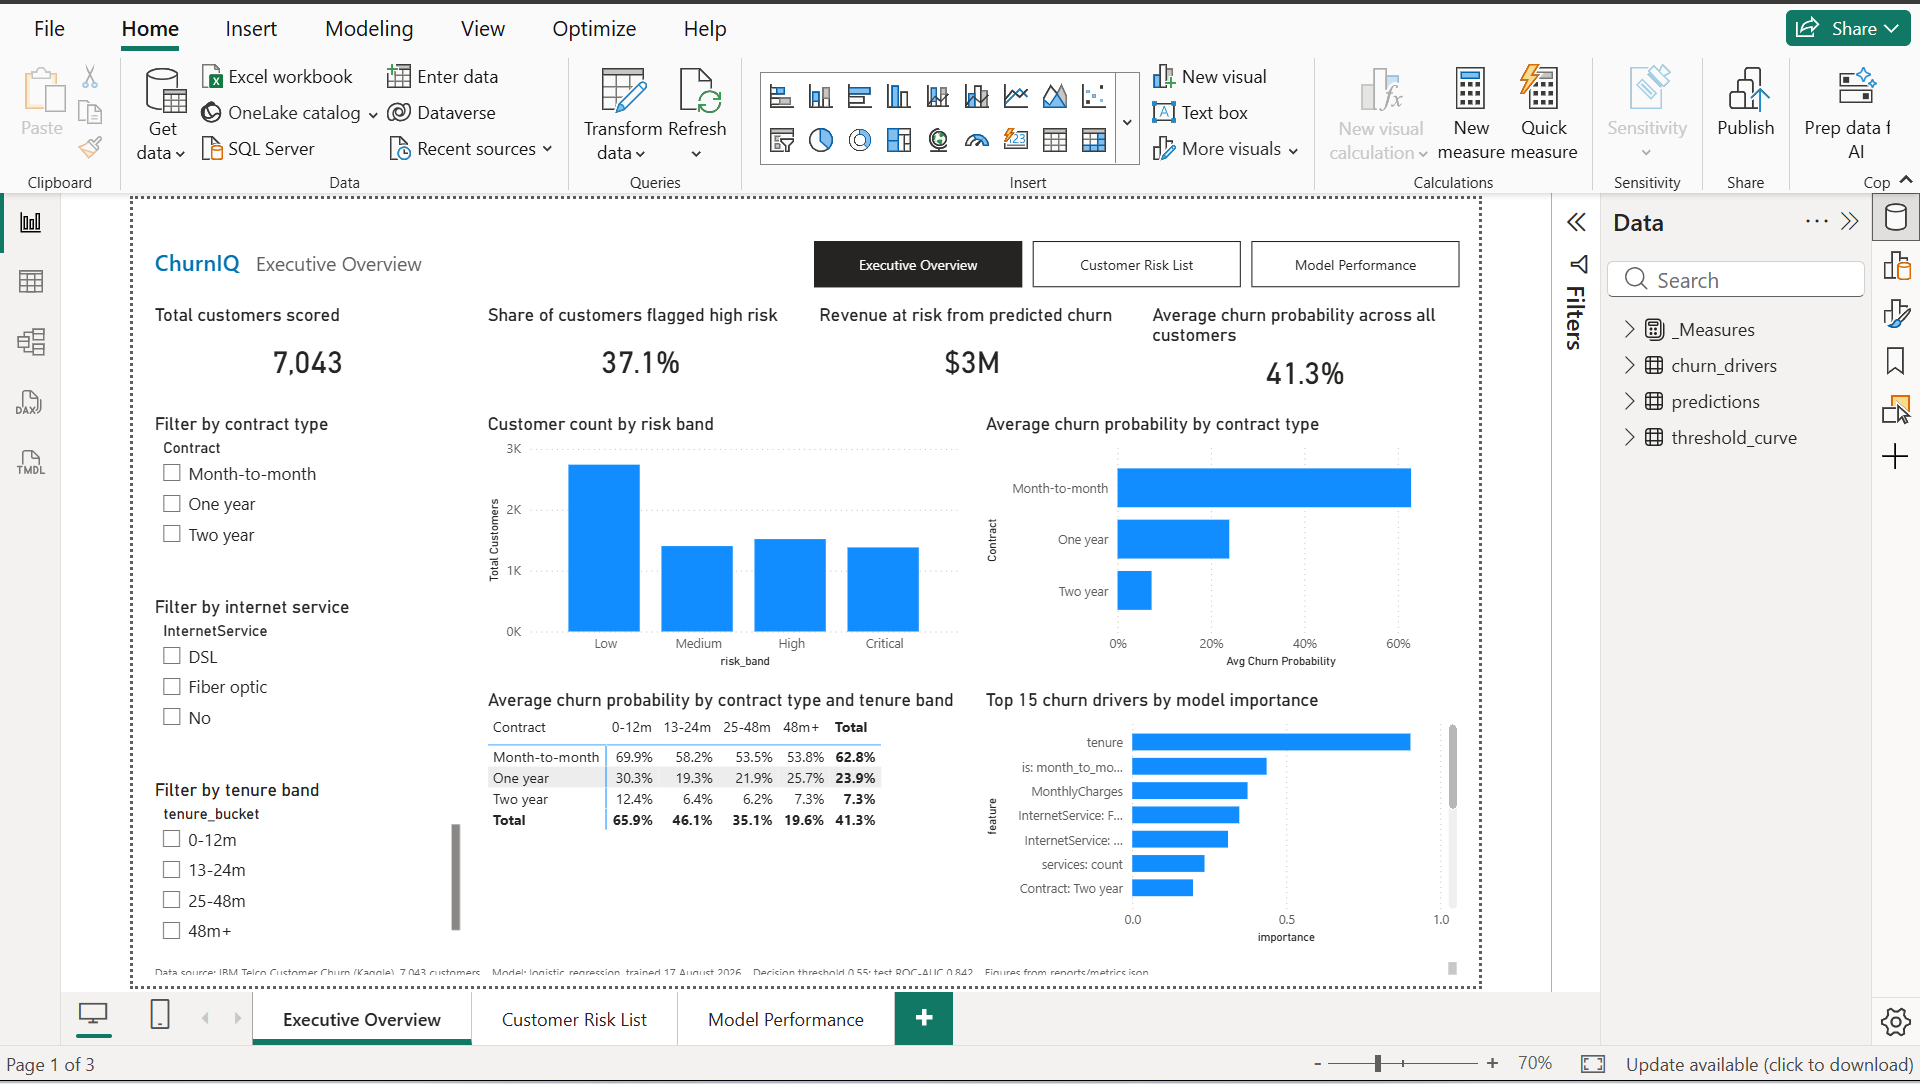

This screenshot's page, from the dashboard's own definition file:
{"tool":"powerbi","page":{"name":"Executive Overview","canvas":[1280,720],"ordinal":0},"visuals":[{"type":"textbox","box":[16,12,458,44],"z":0},{"type":"pageNavigator","box":[648,12,616,44],"z":1000},{"type":"card","title":"Total customers scored","fields":{"Values":["_Measures.Total Customers"]},"box":[16,72,300,88],"z":2000},{"type":"card","title":"Share of customers flagged high risk","fields":{"Values":["_Measures.High Risk %"]},"box":[332,72,300,88],"z":3000},{"type":"card","title":"Revenue at risk from predicted churn","fields":{"Values":["_Measures.Revenue at Risk"]},"box":[648,72,300,88],"z":4000},{"type":"card","title":"Average churn probability across all customers","fields":{"Values":["_Measures.Avg Churn Probability"]},"box":[964,72,300,88],"z":5000},{"type":"slicer","title":"Filter by contract type","fields":{"Values":["predictions.Contract"]},"box":[16,176,300,158],"z":6000},{"type":"slicer","title":"Filter by internet service","fields":{"Values":["predictions.InternetService"]},"box":[16,350,300,158],"z":7000},{"type":"slicer","title":"Filter by tenure band","fields":{"Values":["predictions.tenure_bucket"]},"box":[16,524,300,160],"z":8000},{"type":"columnChart","title":"Customer count by risk band","fields":{"Category":["predictions.risk_band"],"Y":["_Measures.Total Customers"]},"box":[332,176,458,246],"z":9000},{"type":"clusteredBarChart","title":"Average churn probability by contract type","fields":{"Category":["predictions.Contract"],"Y":["_Measures.Avg Churn Probability"]},"box":[806,176,458,246],"z":10000},{"type":"pivotTable","title":"Average churn probability by contract type and tenure band","fields":{"Columns":["predictions.tenure_bucket"],"Rows":["predictions.Contract"],"Values":["_Measures.Avg Churn Probability"]},"box":[332,438,458,246],"z":11000},{"type":"clusteredBarChart","title":"Top 15 churn drivers by model importance","fields":{"Category":["churn_drivers.feature"],"Y":["Sum(churn_drivers.importance)"]},"box":[806,438,458,246],"z":12000},{"type":"textbox","box":[16,692,1248,22],"z":13000}]}

Visuals, with their boxes on the page's 1280x720 design canvas (x1, y1, x2, y2). These are canvas units, not pixel positions in the 1920x1084 screenshot, which may show the page scaled, cropped or inside an application window:
textbox: 16/12/474/56
pageNavigator: 648/12/1264/56
"Total customers scored" card: 16/72/316/160
"Share of customers flagged high risk" card: 332/72/632/160
"Revenue at risk from predicted churn" card: 648/72/948/160
"Average churn probability across all customers" card: 964/72/1264/160
"Filter by contract type" slicer: 16/176/316/334
"Filter by internet service" slicer: 16/350/316/508
"Filter by tenure band" slicer: 16/524/316/684
"Customer count by risk band" columnChart: 332/176/790/422
"Average churn probability by contract type" clusteredBarChart: 806/176/1264/422
"Average churn probability by contract type and tenure band" pivotTable: 332/438/790/684
"Top 15 churn drivers by model importance" clusteredBarChart: 806/438/1264/684
textbox: 16/692/1264/714
